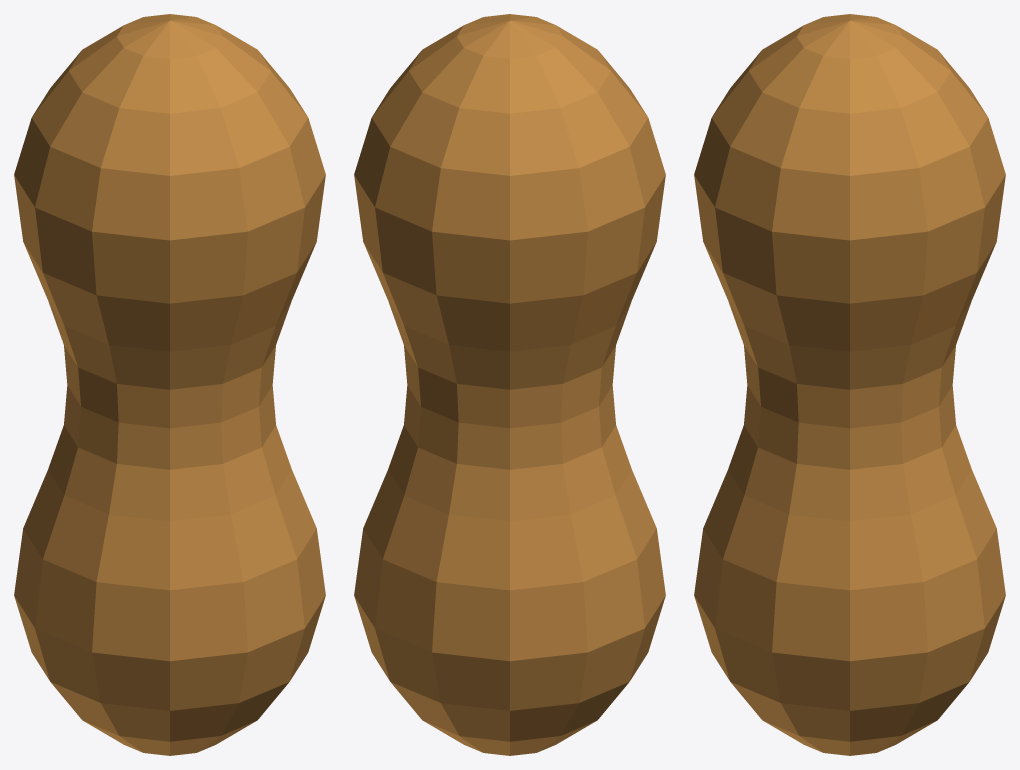
The model's file is peanut.fbx.
3 views of the same model, side by side, from view 1: azimuth 30°, elevation 25°; view 2: azimuth 150°, elevation 25°; view 3: azimuth 270°, elevation 25° (orthographic).
Parts seen in each view (by area): view 1: peanut; view 2: peanut; view 3: peanut.
Part boxes in pixels (bbox=[...]): peanut: bbox=[14, 14, 325, 755]; peanut: bbox=[354, 14, 665, 755]; peanut: bbox=[694, 14, 1005, 755].
Bounding box in the file's own units: 29.25 × 75.41 × 29.25.
